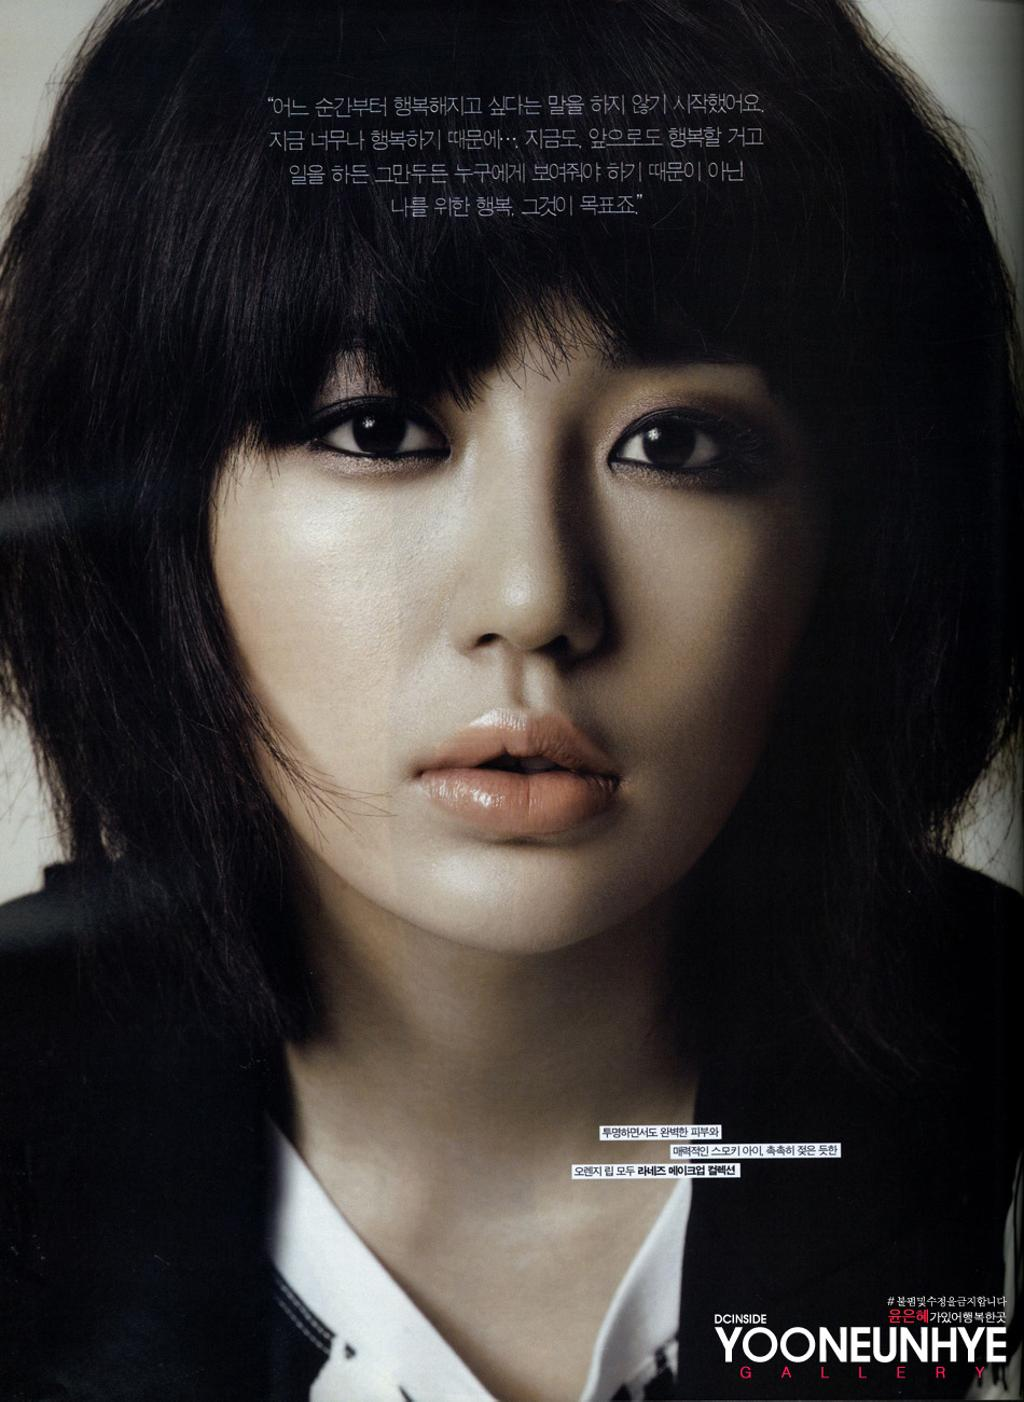face: (178, 129, 841, 948)
